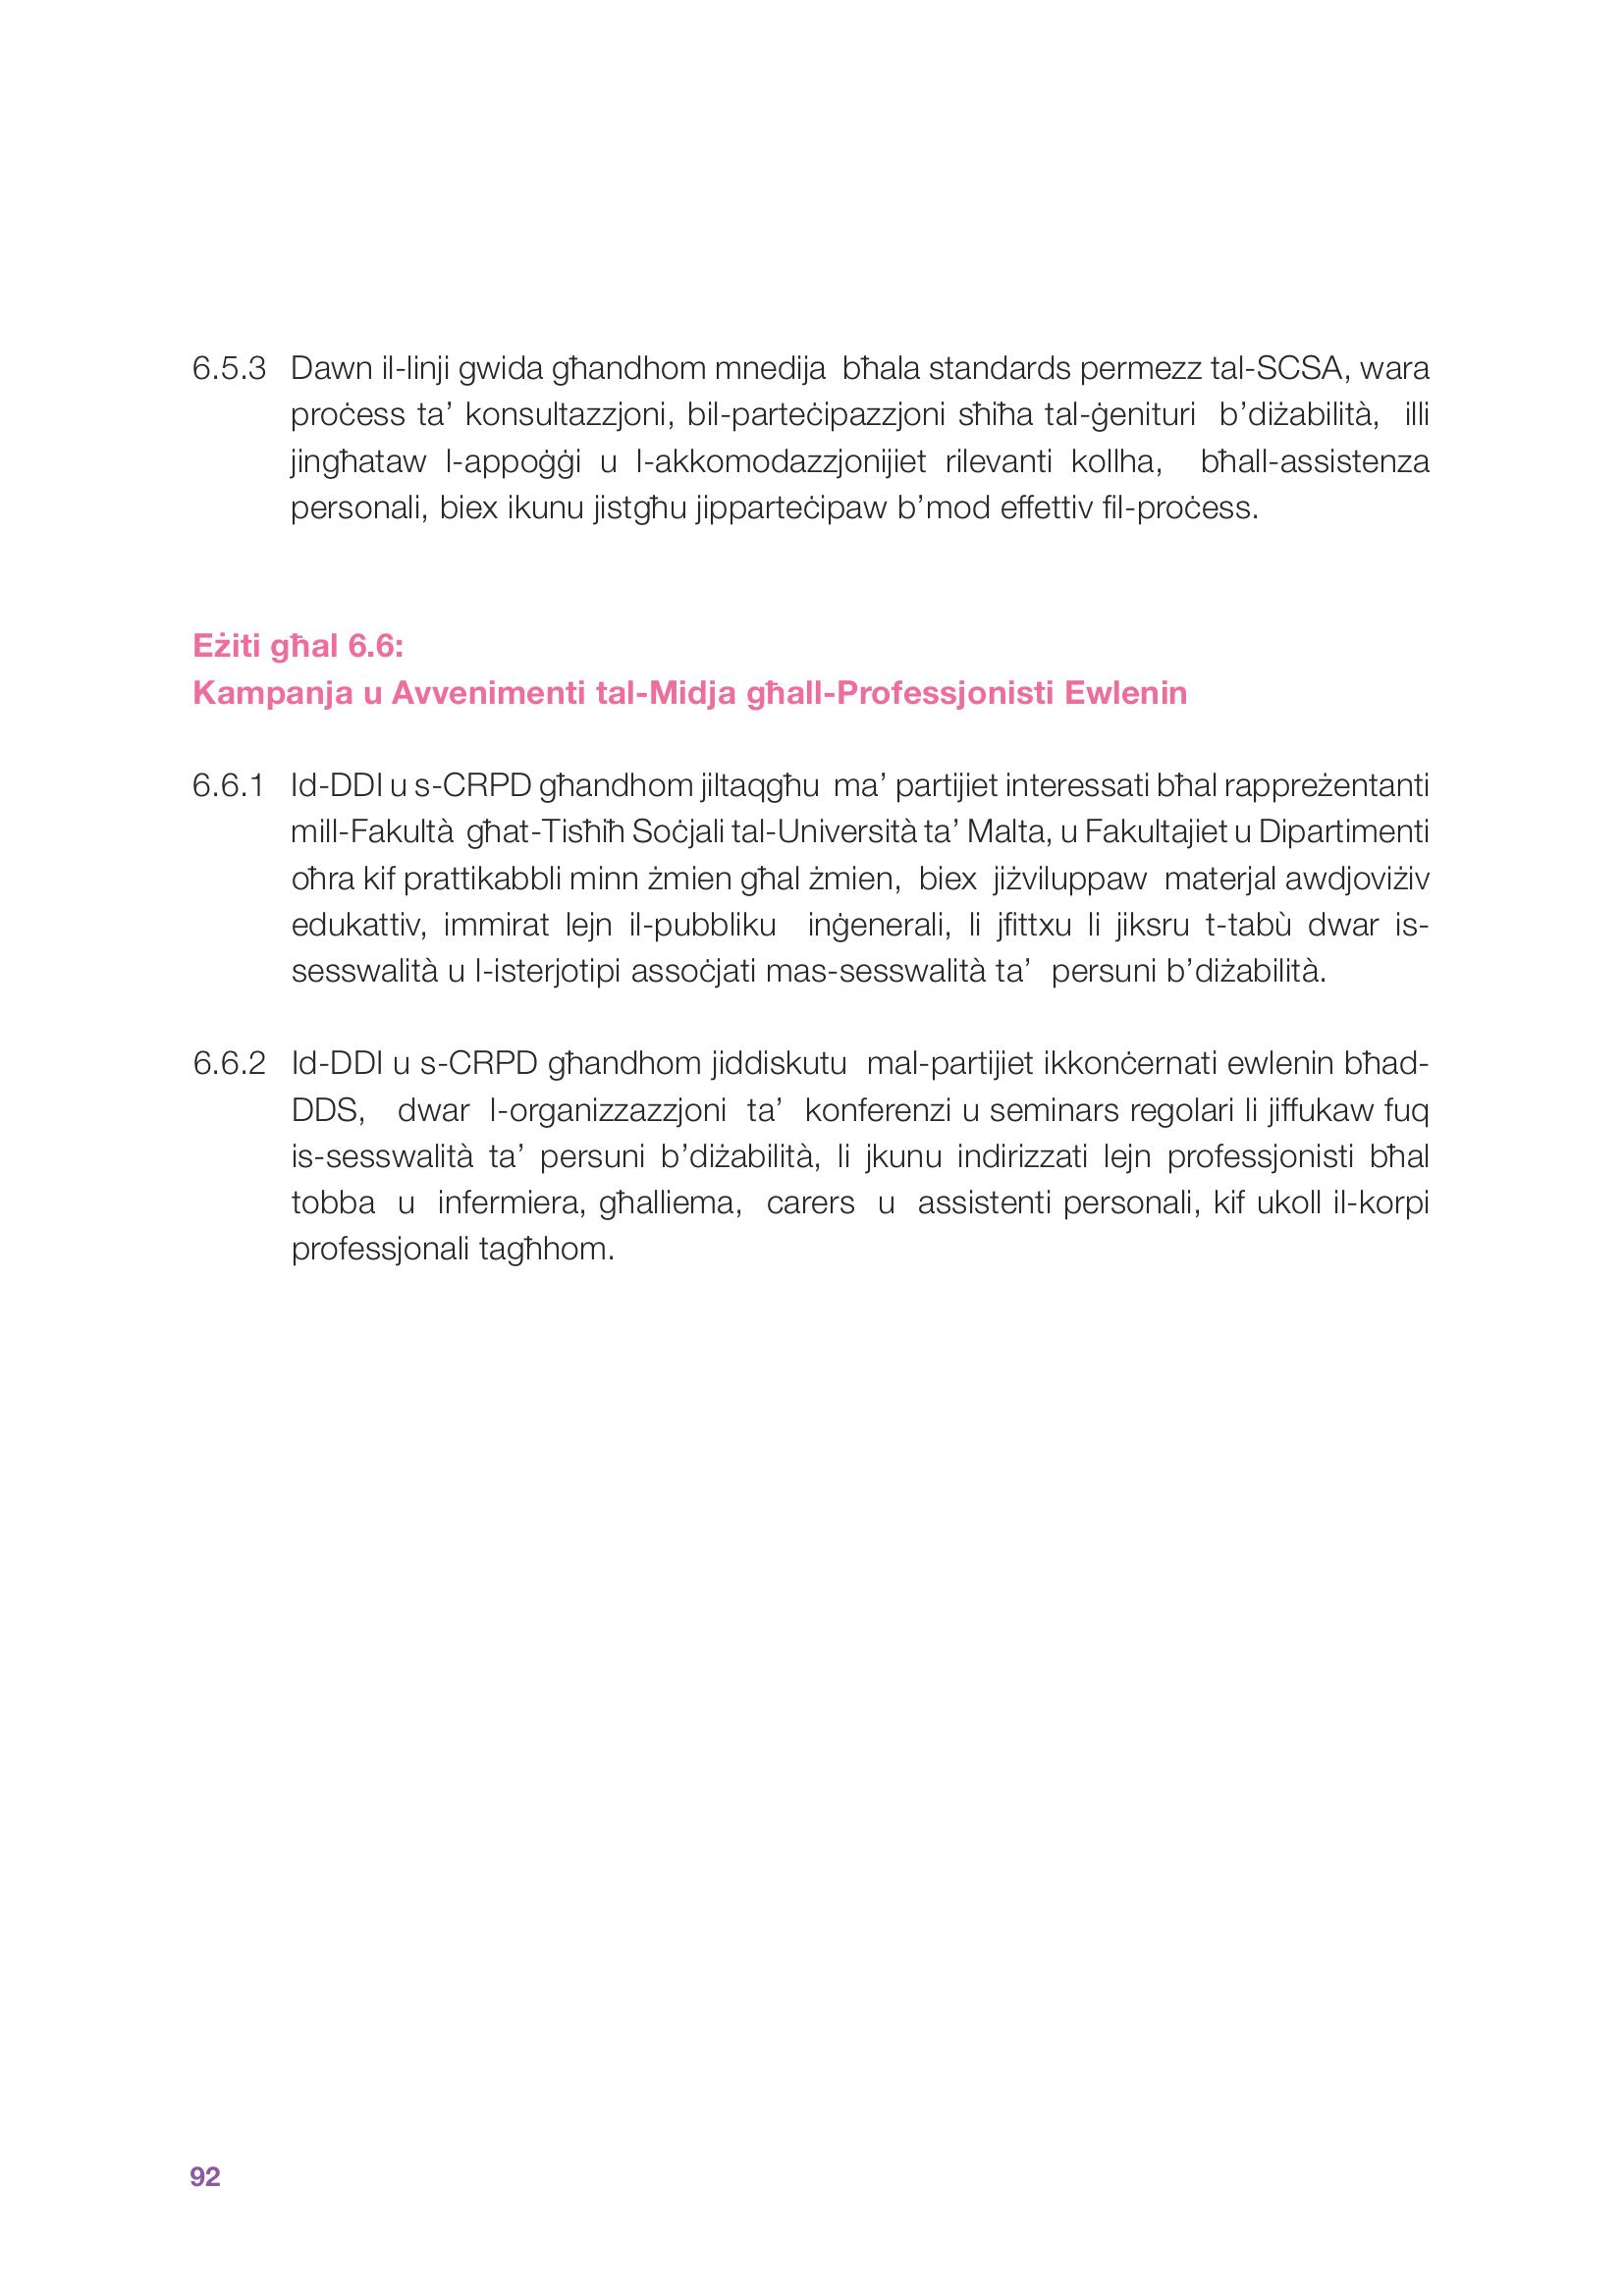text: (134, 304, 1496, 1298)
